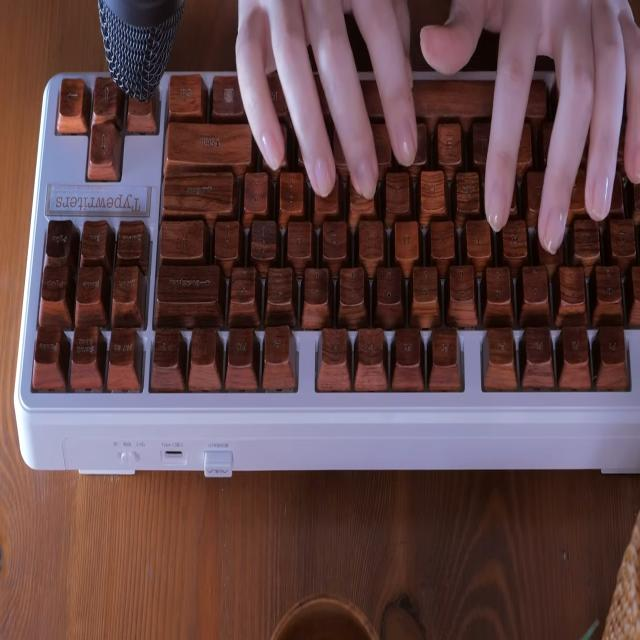keyboard-with-hands: (20, 71, 640, 410)
